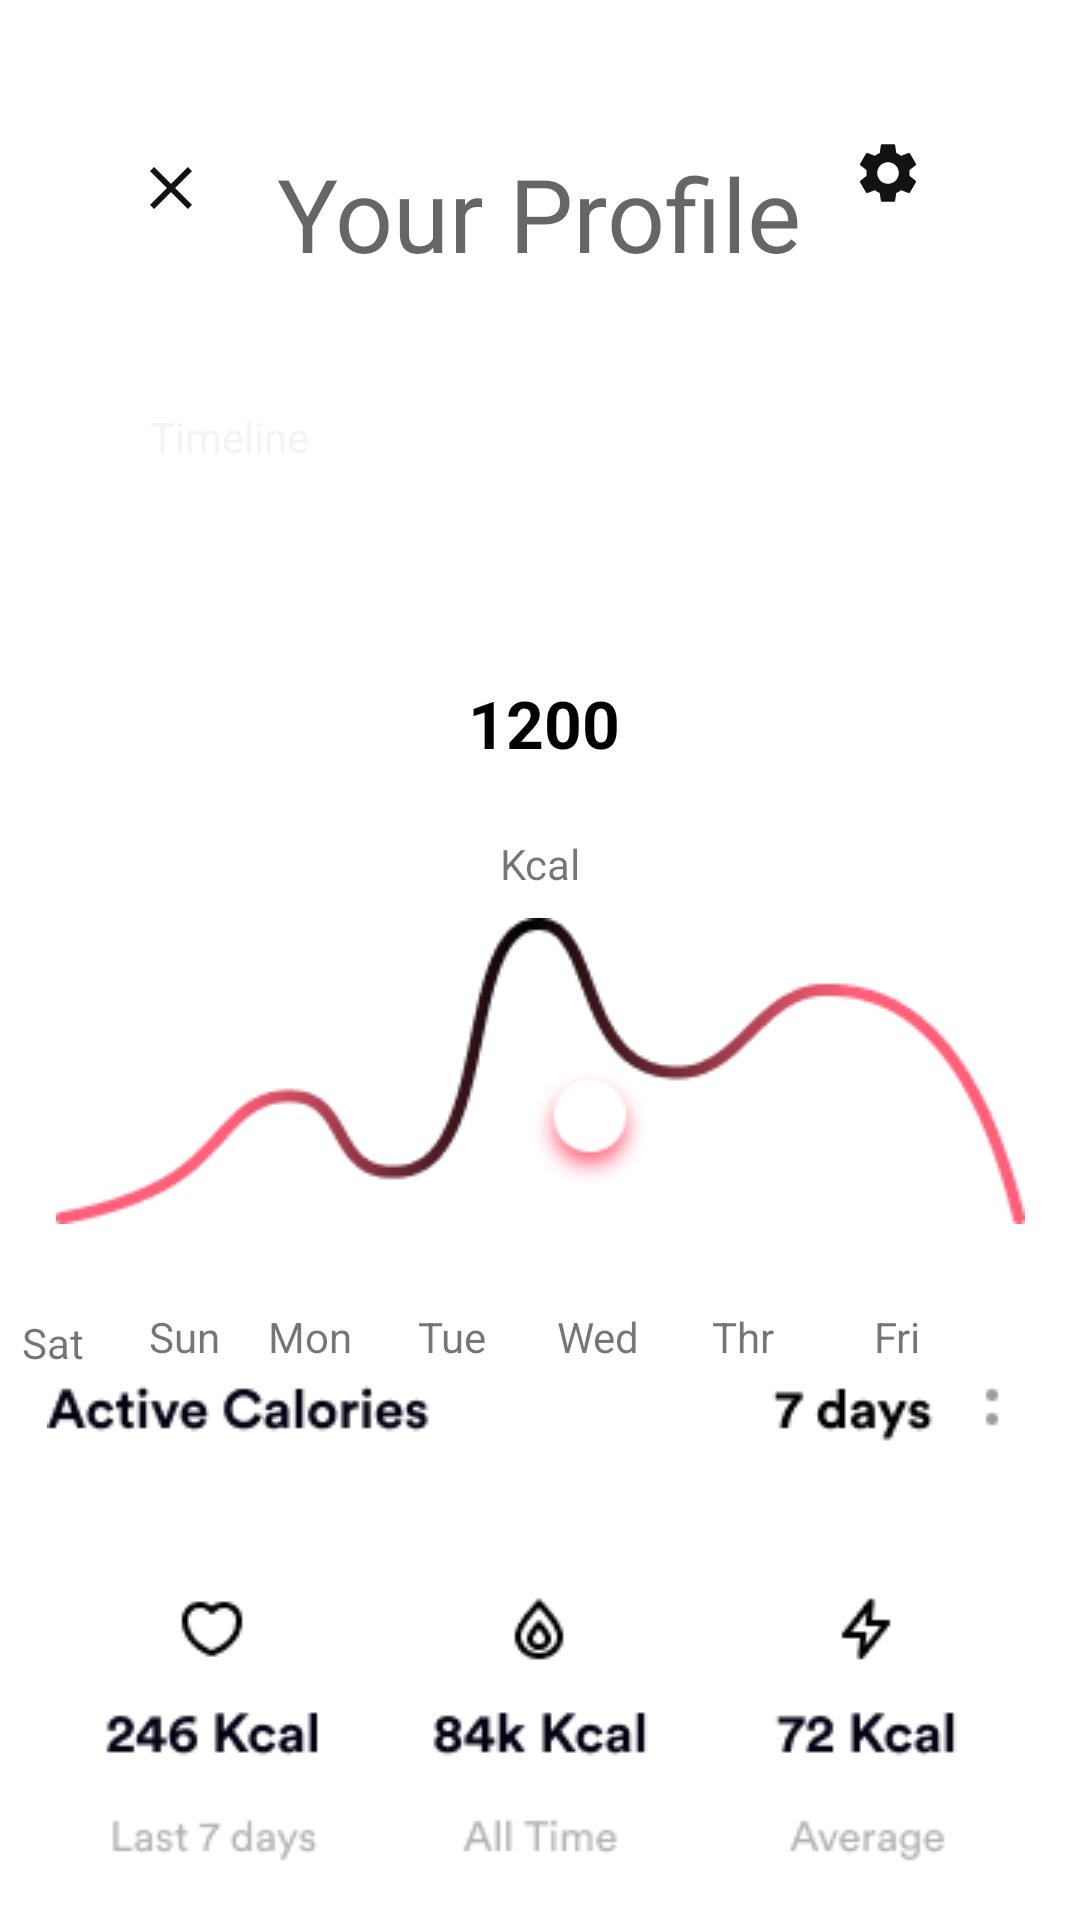

Point at icon controls on the screen. Image size 1080*1920, points as point (x, y).
clear: point (171, 188)
settings: point (888, 173)
